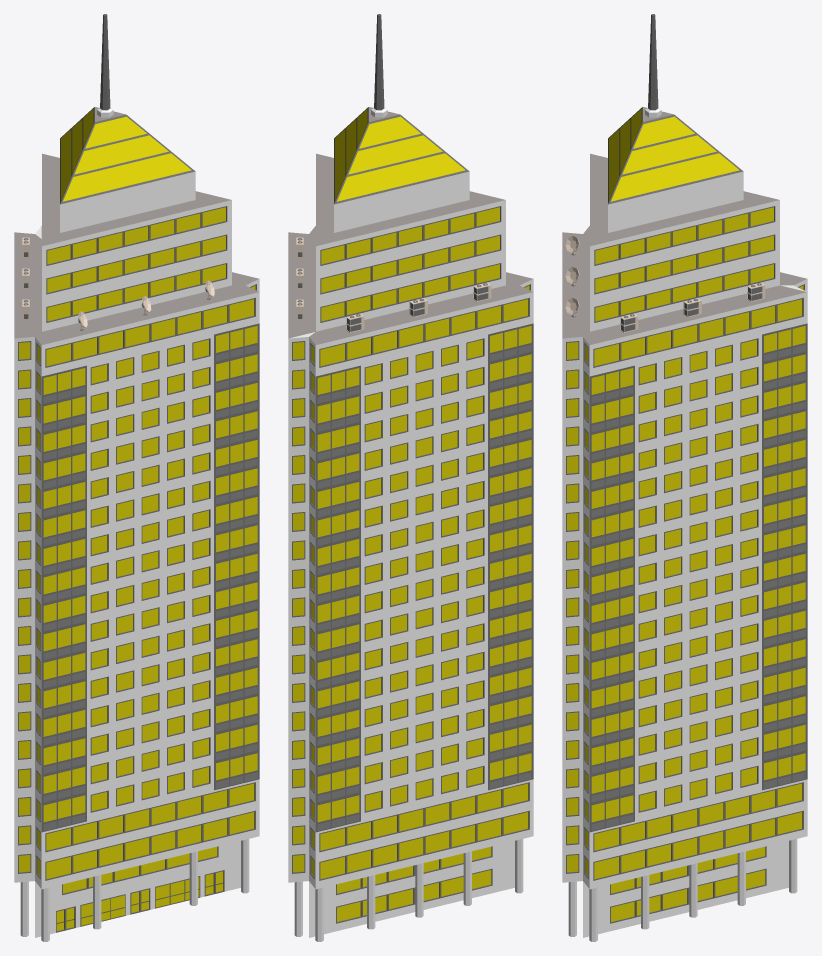
Rendered from Building_16.fbx.
The picture shows the model from 3 angles, left to right: view 1: azimuth 30°, elevation 25°; view 2: azimuth 150°, elevation 25°; view 3: azimuth 270°, elevation 25°; orthographic projection.
Visible parts, largest first — view 1: building-skyscraper.001, building-skyscraper.002, building-skyscraper, building-skyscraper.003; view 2: building-skyscraper.001, building-skyscraper.002, building-skyscraper, building-skyscraper.003; view 3: building-skyscraper.001, building-skyscraper.002, building-skyscraper, building-skyscraper.003.
Boxes of the visible parts, bbox=[...] form: building-skyscraper.001: bbox=[14, 658, 259, 941]; building-skyscraper.002: bbox=[14, 459, 259, 717]; building-skyscraper: bbox=[14, 226, 259, 517]; building-skyscraper.003: bbox=[22, 14, 231, 331]; building-skyscraper.001: bbox=[288, 658, 533, 941]; building-skyscraper.002: bbox=[288, 459, 533, 717]; building-skyscraper: bbox=[288, 226, 533, 517]; building-skyscraper.003: bbox=[296, 14, 505, 332]; building-skyscraper.001: bbox=[562, 658, 807, 941]; building-skyscraper.002: bbox=[562, 459, 807, 717]; building-skyscraper: bbox=[562, 226, 807, 517]; building-skyscraper.003: bbox=[565, 14, 779, 332].
Bounding box in the file's own units: 5.63 × 19.13 × 4.87.
